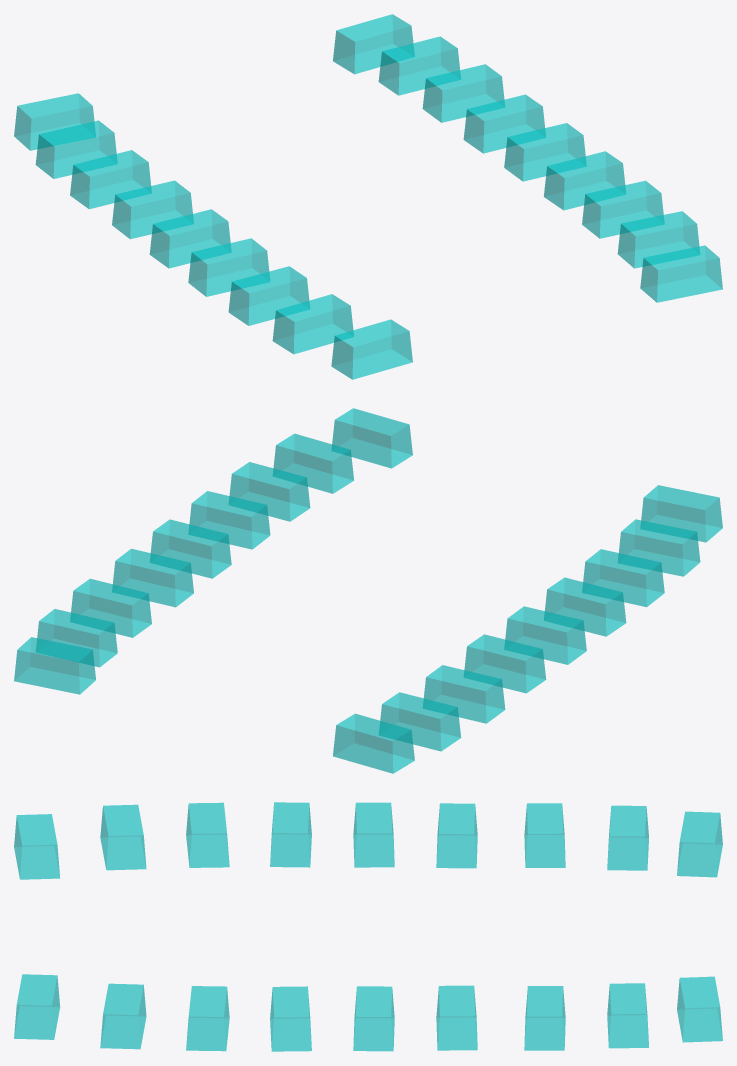
File: SM_Veh_Boat_Large_01_Chests_01_Collision.fbx
3 renders of one model, top to bottom at view 1: azimuth 30°, elevation 25°; view 2: azimuth 150°, elevation 25°; view 3: azimuth 270°, elevation 25°, orthographic. The views are drawn at different scales.
Parts seen in each view (by area): view 1: SM_Veh_Boat_Large_01_Chests_01_Collision; view 2: SM_Veh_Boat_Large_01_Chests_01_Collision; view 3: SM_Veh_Boat_Large_01_Chests_01_Collision.
Part boxes in pixels (x1=…): SM_Veh_Boat_Large_01_Chests_01_Collision: x1=14, y1=14, x2=722, y2=379; SM_Veh_Boat_Large_01_Chests_01_Collision: x1=14, y1=408, x2=722, y2=773; SM_Veh_Boat_Large_01_Chests_01_Collision: x1=14, y1=802, x2=722, y2=1051.
Bounding box in the file's own units: 722 × 51.07 × 995.
